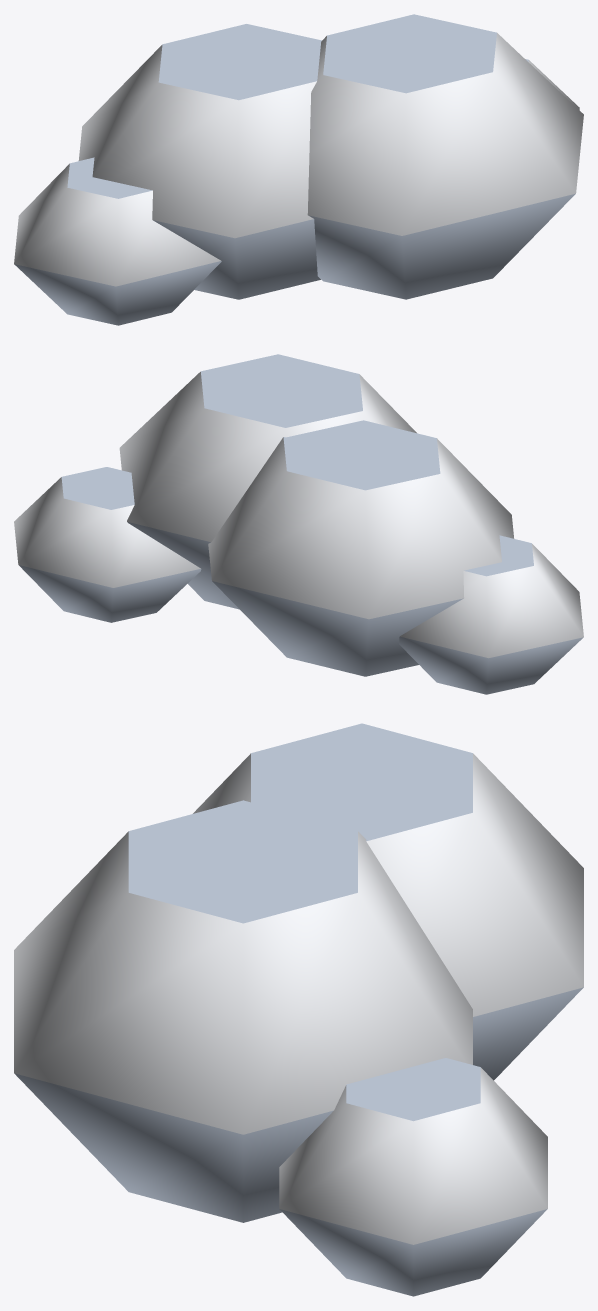
The model's file is SM_Env_Cloud_LQ.glb.
3 views of the same model, one above another, from view 1: azimuth 30°, elevation 25°; view 2: azimuth 150°, elevation 25°; view 3: azimuth 270°, elevation 25° (orthographic). The views are drawn at different scales.
Visible parts, largest first — view 1: SM_Env_Cloud_LQ; view 2: SM_Env_Cloud_LQ; view 3: SM_Env_Cloud_LQ.
Part boxes in pixels (left/top/right/bottom): SM_Env_Cloud_LQ: left=14, top=14, right=583, bottom=325; SM_Env_Cloud_LQ: left=14, top=354, right=583, bottom=694; SM_Env_Cloud_LQ: left=14, top=723, right=583, bottom=1296.
Bounding box in the file's own units: 11.63 × 4.02 × 6.72.
Materials: 1 (1 with a texture image).
